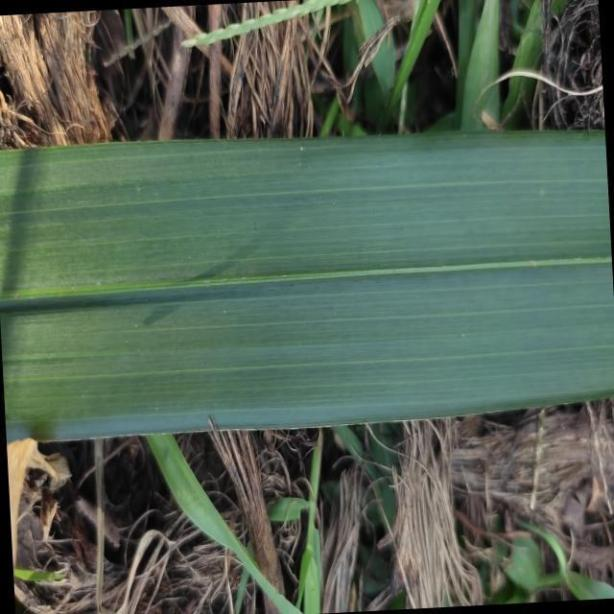Healthy: (1, 127, 614, 444)
